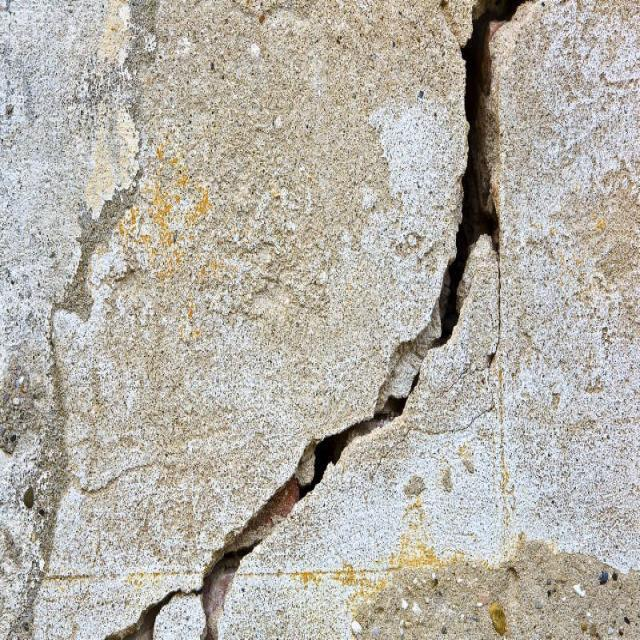crack: (91, 273, 437, 640), (6, 18, 162, 638), (438, 0, 572, 368), (366, 169, 490, 427)
